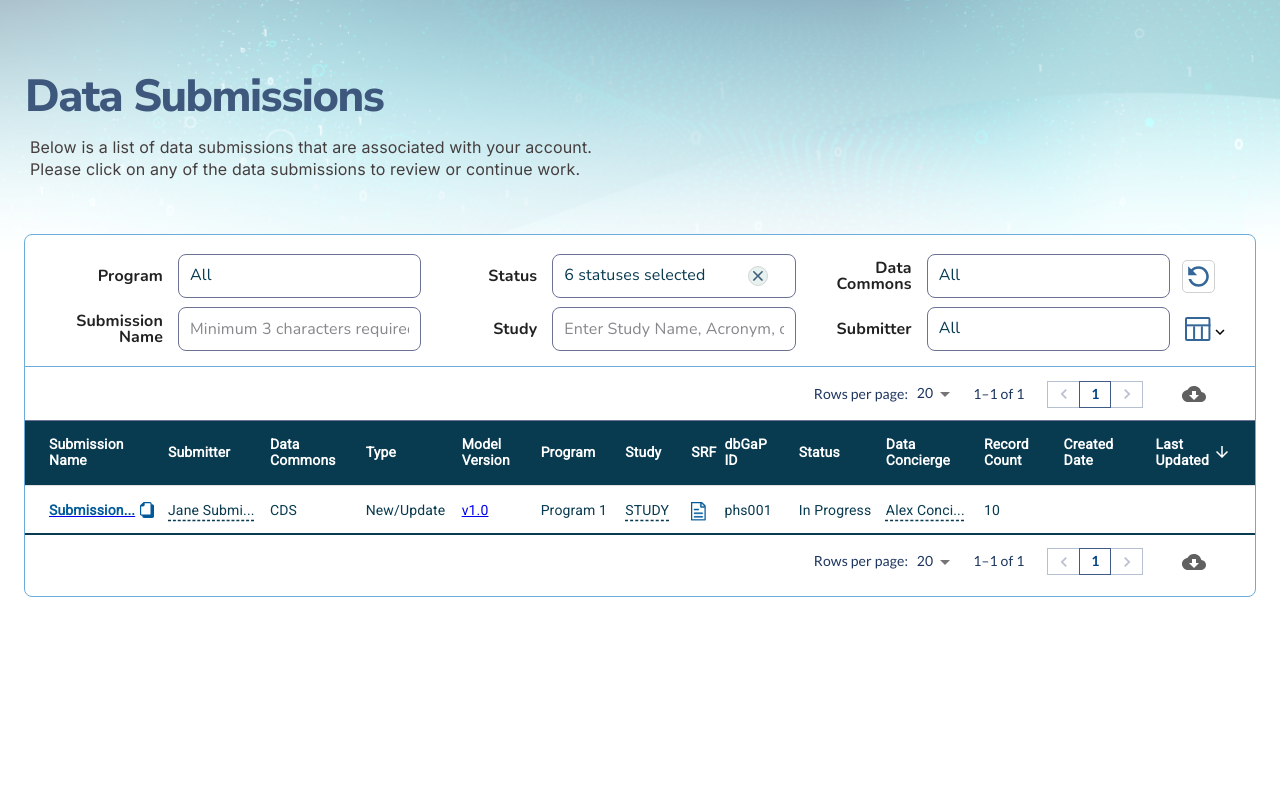
Implementation Requirements › should show submission name tooltip content when hovering active submission name
Hover over the link named "Submission Alpha" at (92, 510), box [49,500,135,520]
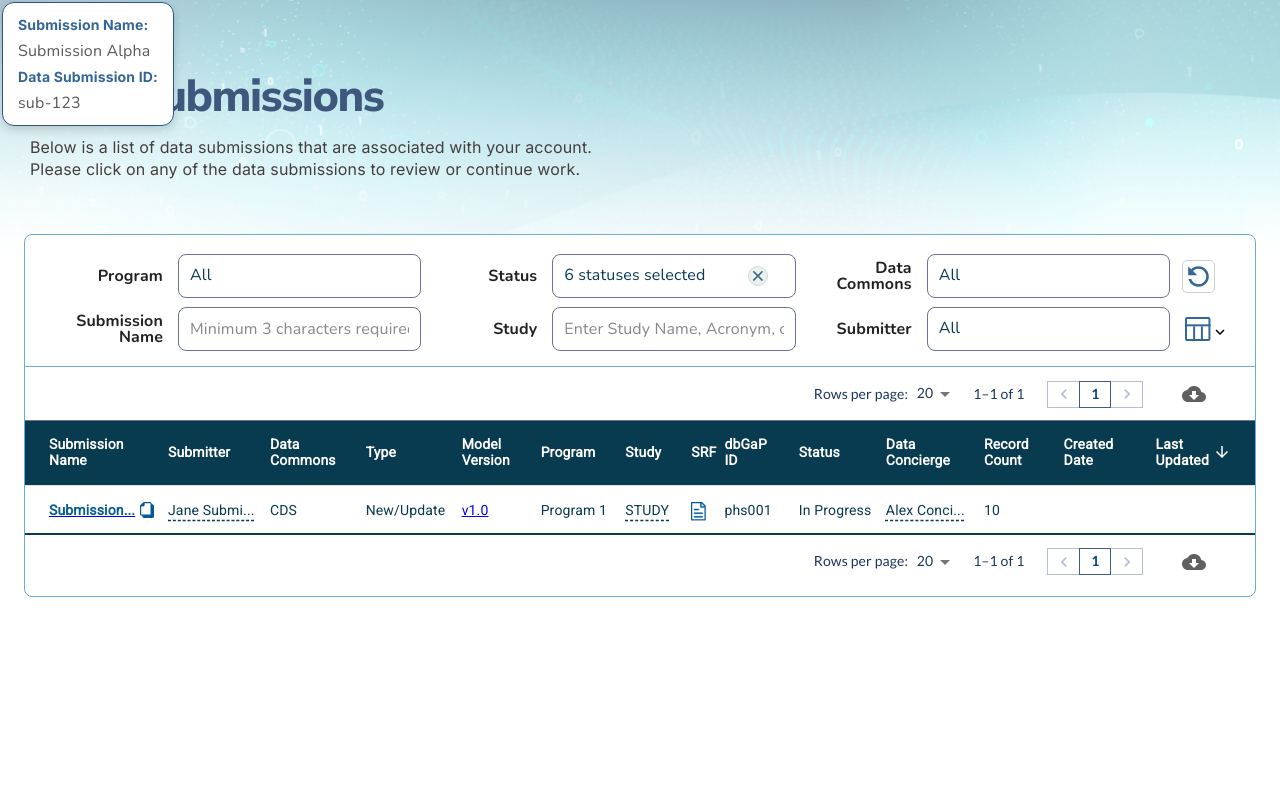
expect the text "Submission Name:" is shown: met, box [18,15,158,35]
expect the text "Submission Alpha" is shown: met, box [18,41,158,61]
expect the text "Data Submission ID:" is shown: met, box [18,67,158,87]
